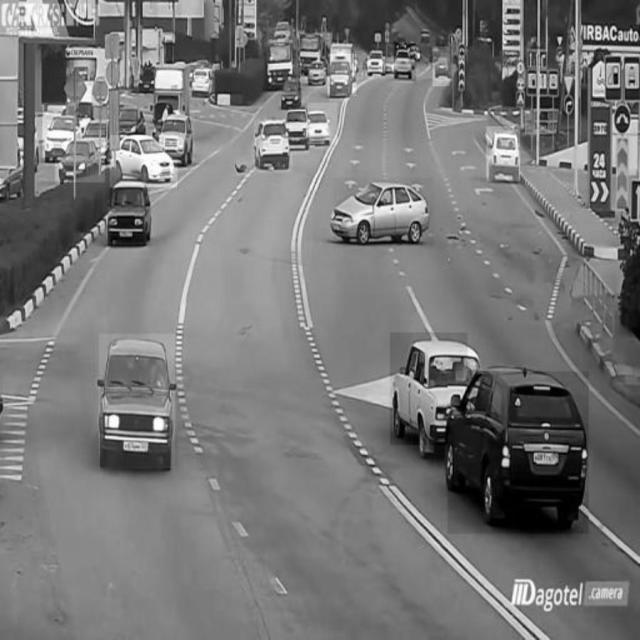vehicle: (448, 372, 589, 534), (99, 334, 175, 468), (391, 333, 468, 445), (334, 178, 434, 248), (110, 136, 177, 188), (110, 174, 151, 242), (55, 131, 105, 183), (254, 119, 292, 171), (487, 126, 521, 181), (43, 104, 75, 159), (158, 114, 195, 160), (266, 28, 300, 75), (283, 112, 315, 154), (308, 103, 338, 145), (328, 54, 356, 96), (189, 63, 215, 97), (395, 42, 417, 82), (365, 45, 385, 81), (432, 46, 450, 86)
